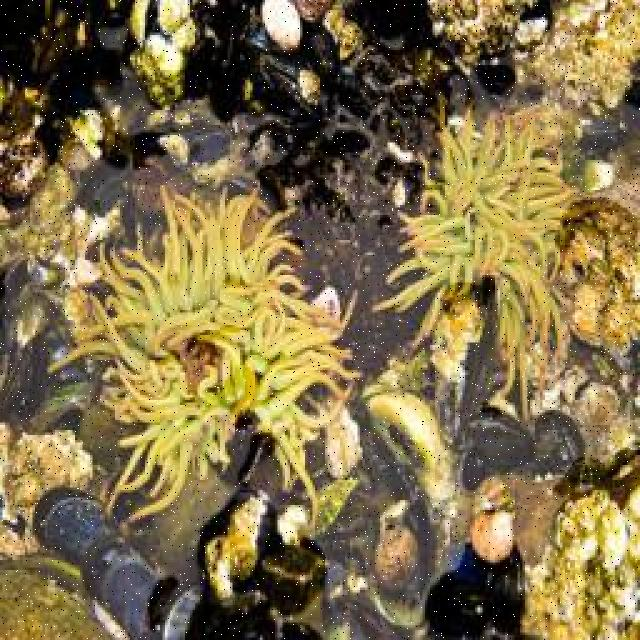reefs: (47, 182, 362, 527), (372, 89, 586, 418), (547, 198, 638, 370)
